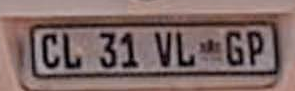1: (120, 31, 140, 69)
3: (97, 31, 119, 69)
C: (41, 32, 62, 69)
G: (223, 29, 245, 67)
L: (174, 30, 197, 69), (62, 32, 84, 70)
P: (246, 30, 266, 67)
V: (152, 31, 173, 69)
